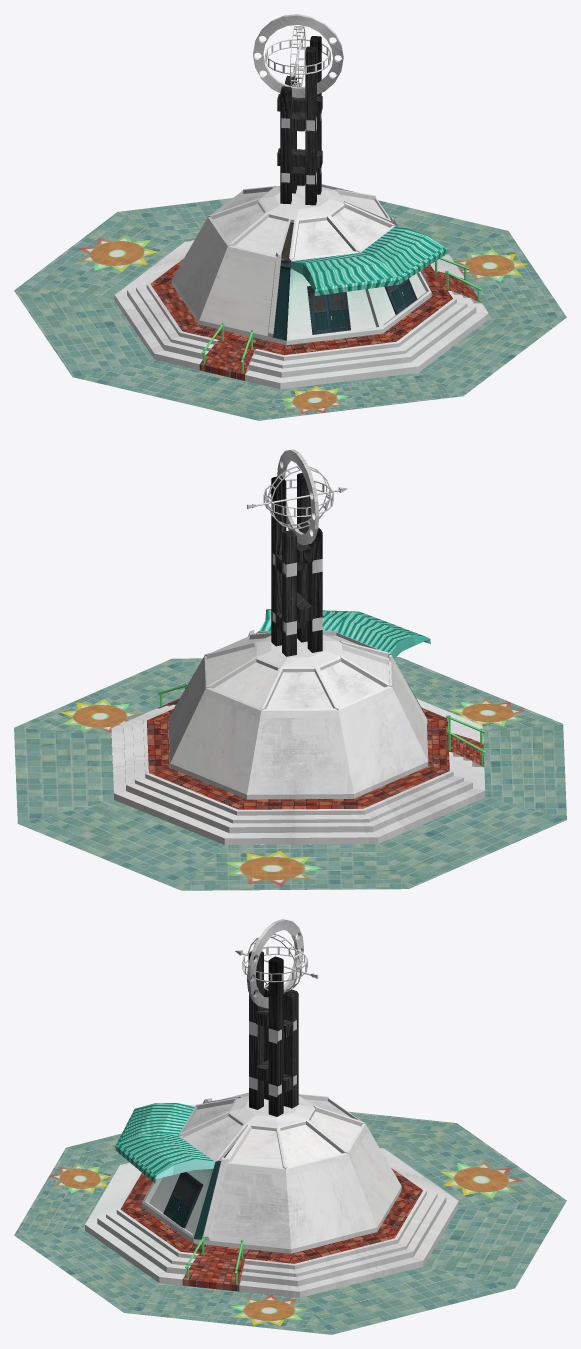
The model's file is tugu-khatulistiwa.glb.
3 renders of one model, top to bottom at view 1: azimuth 30°, elevation 25°; view 2: azimuth 150°, elevation 25°; view 3: azimuth 270°, elevation 25°, orthographic. The views are drawn at different scales.
Visible parts, largest first — view 1: tugu katulistiwa_0, tugu katulistiwa_4, Cylinder.003_0; view 2: tugu katulistiwa_0, tugu katulistiwa_4, Cylinder.003_0; view 3: tugu katulistiwa_0, tugu katulistiwa_4.
Part boxes in pixels (<box>): tugu katulistiwa_0: <box>114,14,488,389</box>; tugu katulistiwa_4: <box>14,198,566,420</box>; Cylinder.003_0: <box>201,257,481,373</box>; tugu katulistiwa_0: <box>111,449,485,844</box>; tugu katulistiwa_4: <box>14,657,566,890</box>; Cylinder.003_0: <box>158,683,485,764</box>; tugu katulistiwa_0: <box>85,919,458,1297</box>; tugu katulistiwa_4: <box>14,1111,566,1334</box>.
Bounding box in the file's own units: 13.17 × 7.78 × 13.17.
Materials: 3 (2 with a texture image).
